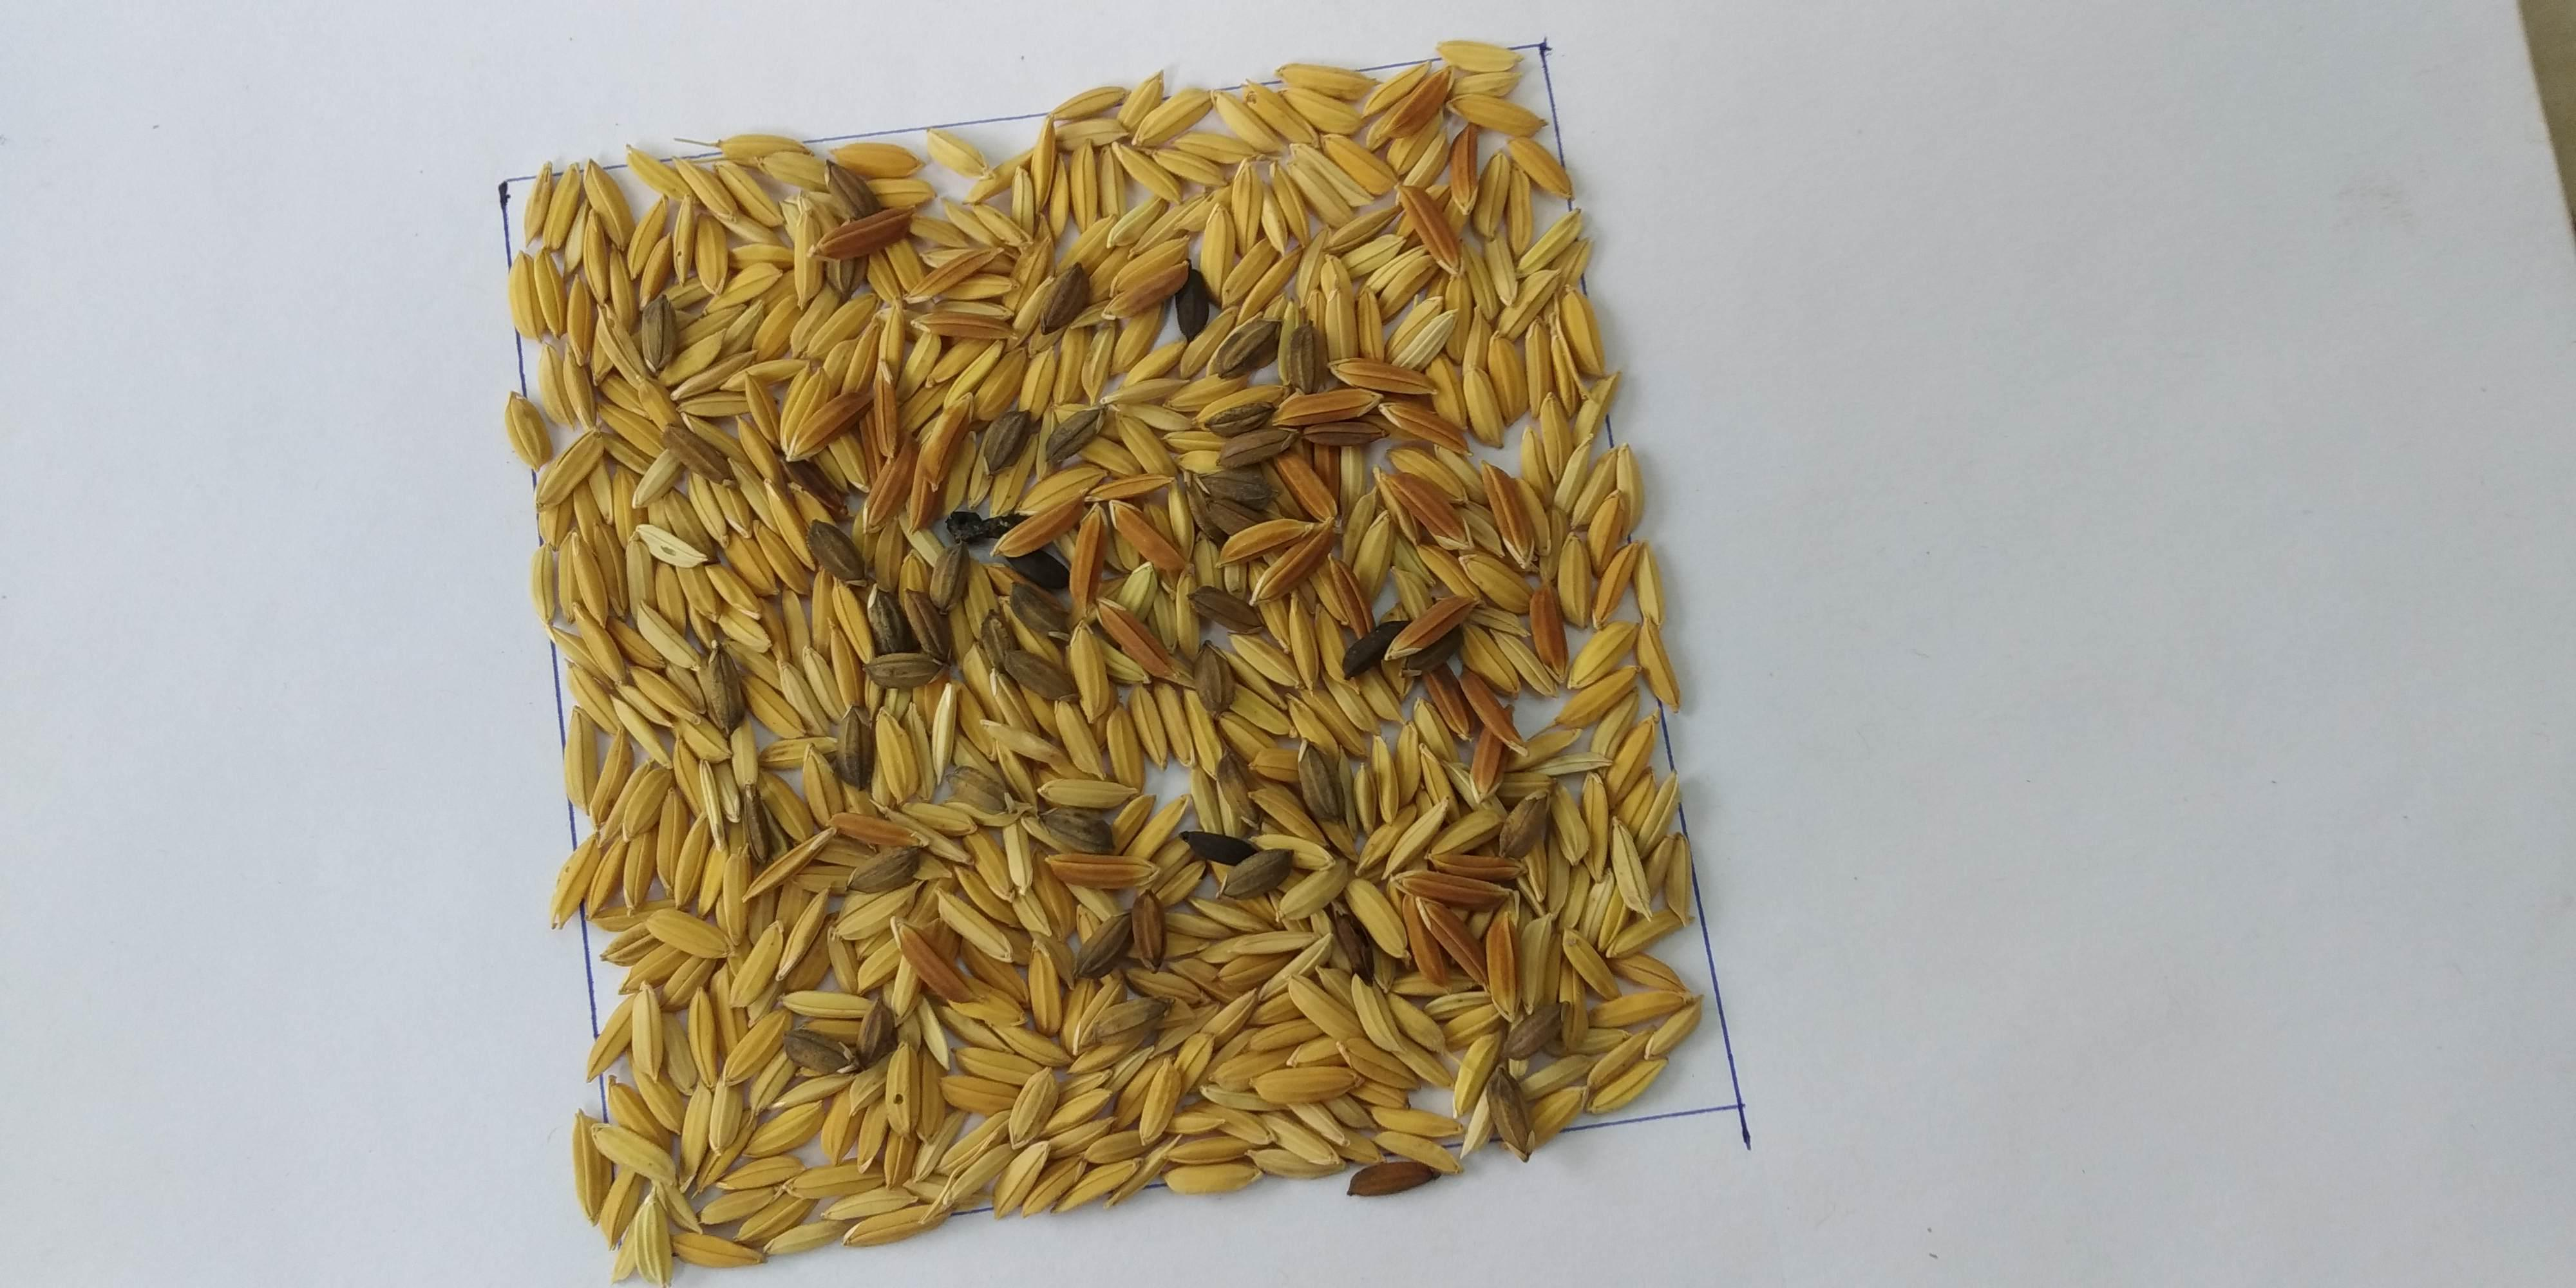impure: (619, 189, 1559, 1097)
